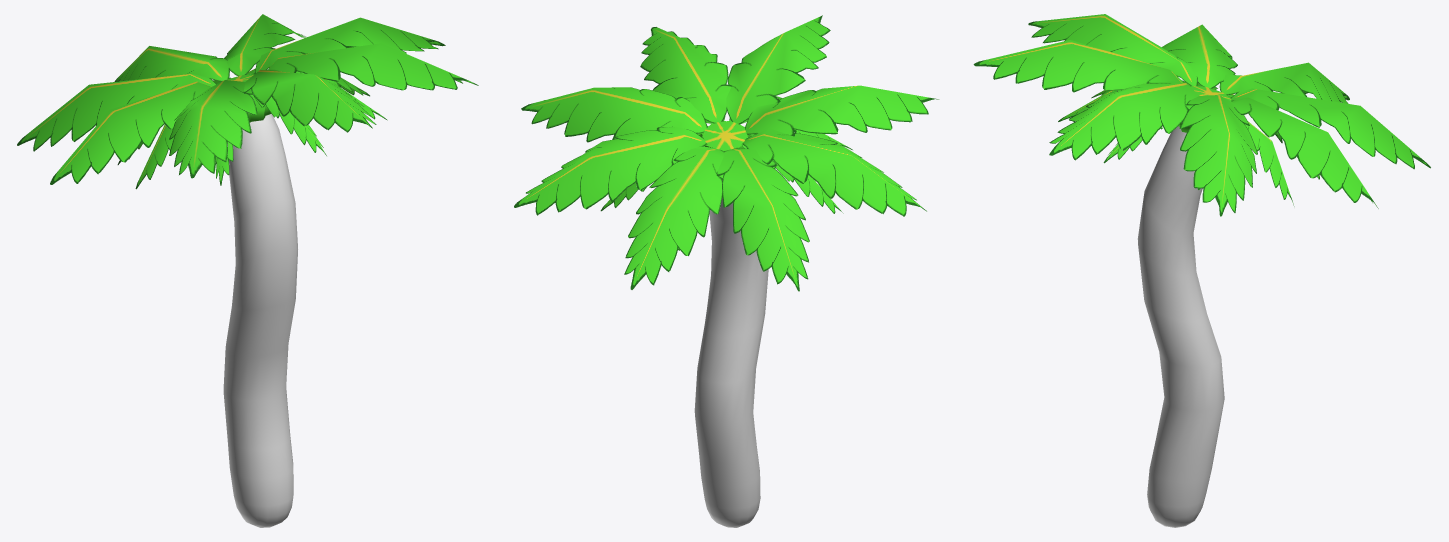
File: Arbre_1.fbx
3 views of the same model, side by side, from view 1: azimuth 30°, elevation 25°; view 2: azimuth 150°, elevation 25°; view 3: azimuth 270°, elevation 25° (orthographic). The views are drawn at different scales.
Visible parts, largest first — view 1: Arbre 1_LOD0; view 2: Arbre 1_LOD0; view 3: Arbre 1_LOD0.
Part boxes in pixels (x1,y1,x2,y2): Arbre 1_LOD0: (17, 14, 478, 527); Arbre 1_LOD0: (514, 15, 939, 527); Arbre 1_LOD0: (973, 14, 1430, 527).
Bounding box in the file's own units: 369 × 411 × 357.
